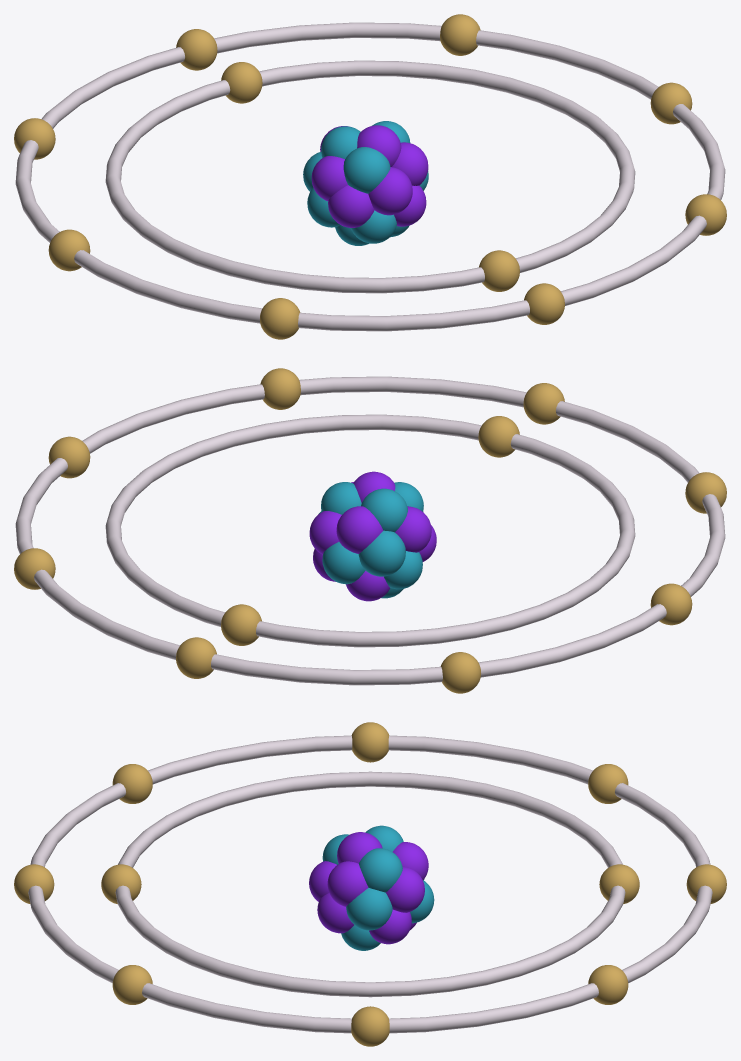
The model's file is neonio.glb.
3 renders of one model, top to bottom at view 1: azimuth 30°, elevation 25°; view 2: azimuth 150°, elevation 25°; view 3: azimuth 270°, elevation 25°, orthographic. The views are drawn at different scales.
Visible parts, largest first — view 1: Orbita_2, Orbita_1, Nucleo_Completo, Eletron_C3_8, Eletron_C3_4, Eletron_1, Eletron_C2_1, Eletron_C3_5, Eletron_2, Eletron_C3_7, Eletron_C3_3, Eletron_C2_2 (+1 smaller); view 2: Orbita_2, Orbita_1, Nucleo_Completo, Eletron_C3_6, Eletron_C2_2, Eletron_2, Eletron_C3_5, Eletron_C2_1, Eletron_1, Eletron_C3_7, Eletron_C3_3, Eletron_C3_4 (+1 smaller); view 3: Orbita_2, Orbita_1, Nucleo_Completo, Eletron_C3_3, Eletron_C3_7, Eletron_C2_2, Eletron_C3_4, Eletron_C3_6, Eletron_C3_8, Eletron_C2_1, Eletron_C3_5, Eletron_1 (+1 smaller).
Part boxes in pixels (bbox=[...]): Orbita_2: bbox=[15, 22, 725, 331]; Orbita_1: bbox=[105, 60, 635, 293]; Nucleo_Completo: bbox=[303, 121, 428, 245]; Eletron_C3_8: bbox=[260, 298, 300, 339]; Eletron_C3_4: bbox=[440, 14, 480, 55]; Eletron_1: bbox=[479, 250, 519, 291]; Eletron_C2_1: bbox=[524, 283, 564, 324]; Eletron_C3_5: bbox=[176, 29, 217, 70]; Eletron_2: bbox=[221, 62, 262, 103]; Eletron_C3_7: bbox=[48, 229, 90, 271]; Eletron_C3_3: bbox=[650, 82, 692, 124]; Eletron_C2_2: bbox=[685, 194, 726, 235]; Orbita_2: bbox=[15, 376, 725, 685]; Orbita_1: bbox=[105, 414, 635, 647]; Nucleo_Completo: bbox=[309, 471, 436, 601]; Eletron_C3_6: bbox=[440, 652, 480, 693]; Eletron_C2_2: bbox=[260, 368, 300, 409]; Eletron_2: bbox=[221, 604, 261, 645]; Eletron_C3_5: bbox=[176, 637, 216, 678]; Eletron_C2_1: bbox=[523, 383, 564, 424]; Eletron_1: bbox=[478, 416, 519, 457]; Eletron_C3_7: bbox=[650, 583, 692, 625]; Eletron_C3_3: bbox=[48, 436, 90, 478]; Eletron_C3_4: bbox=[14, 548, 55, 589]; Orbita_2: bbox=[28, 735, 712, 1033]; Orbita_1: bbox=[115, 771, 625, 997]; Nucleo_Completo: bbox=[309, 825, 434, 950]; Eletron_C3_3: bbox=[351, 1006, 389, 1046]; Eletron_C3_7: bbox=[351, 722, 389, 762]; Eletron_C2_2: bbox=[112, 965, 152, 1004]; Eletron_C3_4: bbox=[588, 965, 628, 1004]; Eletron_C3_6: bbox=[588, 764, 628, 803]; Eletron_C3_8: bbox=[112, 764, 152, 803]; Eletron_C2_1: bbox=[14, 864, 54, 903]; Eletron_C3_5: bbox=[686, 864, 726, 903]; Eletron_1: bbox=[101, 864, 141, 904].
Size of the model in its own units: 2.86 by 0.4958 by 2.86.
